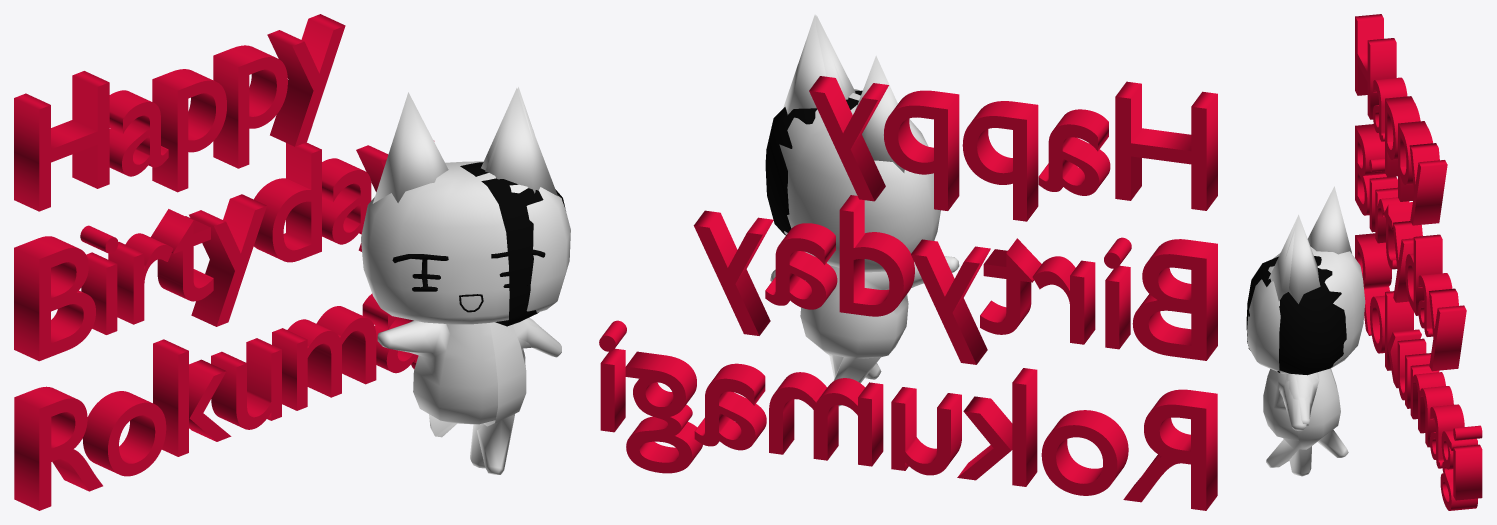
Rendered from rokumagi.glb.
3 views of the same model, side by side, from view 1: azimuth 30°, elevation 25°; view 2: azimuth 150°, elevation 25°; view 3: azimuth 270°, elevation 25° (orthographic). The views are drawn at different scales.
Parts seen in each view (by area): view 1: テキスト, 球.001, 円柱.001, 球.002, 球, 円柱, 球.006; view 2: テキスト, 球.001, 円柱.001, 球, 球.002, 円錐; view 3: テキスト, 球, 球.001, 円柱.001, 円柱, 球.002, 円錐.
Part boxes in pixels (x1,y1,x2,y2): テキスト: (14,14,434,510); 球.001: (361,161,570,324); 円柱.001: (377,317,539,474); 球.002: (373,88,557,203); 球: (460,162,565,326); 円柱: (470,320,561,468); 球.006: (392,254,448,291); テキスト: (599,76,1217,510); 球.001: (779,89,940,272); 円柱.001: (771,256,959,406); 球: (765,90,862,235); 球.002: (816,15,904,172); 円錐: (783,14,848,114); テキスト: (1355,14,1482,510); 球: (1246,256,1346,375); 球.001: (1247,246,1365,373); 円柱.001: (1266,368,1348,467); 円柱: (1263,369,1319,476); 球.002: (1268,186,1351,300); 円錐: (1286,215,1320,303).
Bounding box in the file's own units: 6.09 × 4.66 × 3.13.
Materials: 5 (1 with a texture image).
